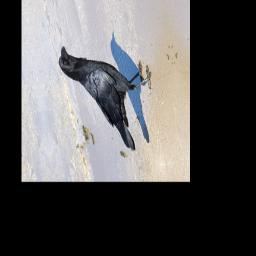Crow: (56, 34, 164, 161)
